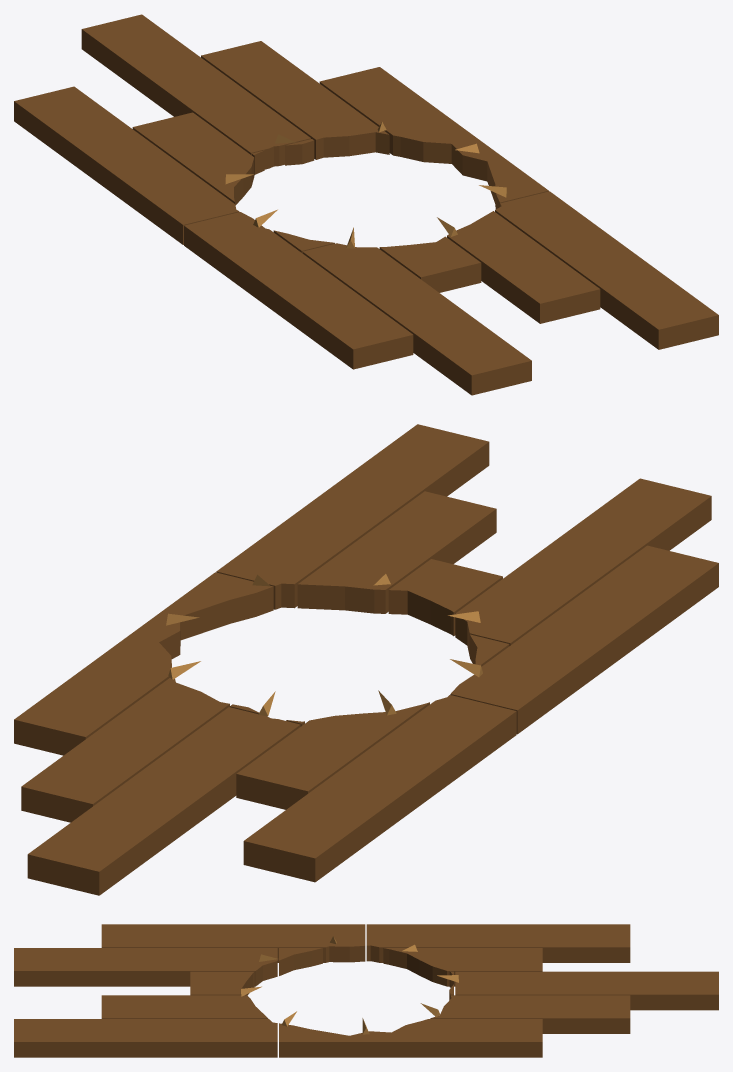
File: PirateShips_DeckDamage_Round.fbx
3 renders of one model, top to bottom at view 1: azimuth 30°, elevation 25°; view 2: azimuth 150°, elevation 25°; view 3: azimuth 270°, elevation 25°, orthographic. The views are drawn at different scales.
Visible parts, largest first — view 1: Broken_Deck_R03_P04, Broken_Deck_R03_P05, Broken_Deck_R05_P05, Broken_Deck_R07_P03, Broken_Deck_R04_P03, Broken_Deck_R07_P04, Broken_Deck_R06_P05, Broken_Deck_R06_P04, Broken_Deck_R04_P04, Broken_Deck_R05_P04, RoundHole_StaticSplinters; view 2: Broken_Deck_R03_P05, Broken_Deck_R05_P05, Broken_Deck_R03_P04, Broken_Deck_R07_P03, Broken_Deck_R04_P03, Broken_Deck_R07_P04, Broken_Deck_R06_P04, Broken_Deck_R06_P05, Broken_Deck_R04_P04, Broken_Deck_R05_P04, RoundHole_StaticSplinters; view 3: Broken_Deck_R07_P03, Broken_Deck_R04_P03, Broken_Deck_R07_P04, Broken_Deck_R03_P05, Broken_Deck_R05_P05, Broken_Deck_R03_P04, Broken_Deck_R06_P05, Broken_Deck_R04_P04, Broken_Deck_R06_P04, Broken_Deck_R05_P04, RoundHole_StaticSplinters.
Boxes of the visible parts, <box> form: Broken_Deck_R03_P04: <box>184,212,413,369</box>; Broken_Deck_R03_P05: <box>14,86,239,244</box>; Broken_Deck_R05_P05: <box>81,14,310,169</box>; Broken_Deck_R07_P03: <box>495,191,718,349</box>; Broken_Deck_R04_P03: <box>302,243,531,395</box>; Broken_Deck_R07_P04: <box>319,67,548,209</box>; Broken_Deck_R06_P05: <box>201,41,389,159</box>; Broken_Deck_R06_P04: <box>447,211,600,323</box>; Broken_Deck_R04_P04: <box>132,112,334,253</box>; Broken_Deck_R05_P04: <box>251,139,481,292</box>; RoundHole_StaticSplinters: <box>225,122,507,248</box>; Broken_Deck_R03_P05: <box>243,695,516,882</box>; Broken_Deck_R05_P05: <box>27,707,300,895</box>; Broken_Deck_R03_P04: <box>450,545,718,734</box>; Broken_Deck_R07_P03: <box>216,424,489,609</box>; Broken_Deck_R04_P03: <box>455,478,711,656</box>; Broken_Deck_R07_P04: <box>14,572,273,755</box>; Broken_Deck_R06_P04: <box>297,491,496,613</box>; Broken_Deck_R06_P05: <box>21,678,229,822</box>; Broken_Deck_R04_P04: <box>236,634,509,809</box>; Broken_Deck_R05_P04: <box>230,559,502,726</box>; RoundHole_StaticSplinters: <box>166,574,482,716</box>; Broken_Deck_R07_P03: <box>14,1019,277,1057</box>; Broken_Deck_R04_P03: <box>14,948,277,986</box>; Broken_Deck_R07_P04: <box>279,1019,542,1057</box>; Broken_Deck_R03_P05: <box>366,924,630,962</box>; Broken_Deck_R05_P05: <box>455,971,718,1010</box>; Broken_Deck_R03_P04: <box>101,924,365,962</box>; Broken_Deck_R06_P05: <box>430,995,630,1033</box>; Broken_Deck_R04_P04: <box>279,948,542,986</box>; Broken_Deck_R06_P04: <box>101,995,268,1018</box>; Broken_Deck_R05_P04: <box>190,971,453,999</box>; RoundHole_StaticSplinters: <box>240,936,458,1034</box>.
Size of the model in its own units: 2.73 by 0.265 by 6.92.
